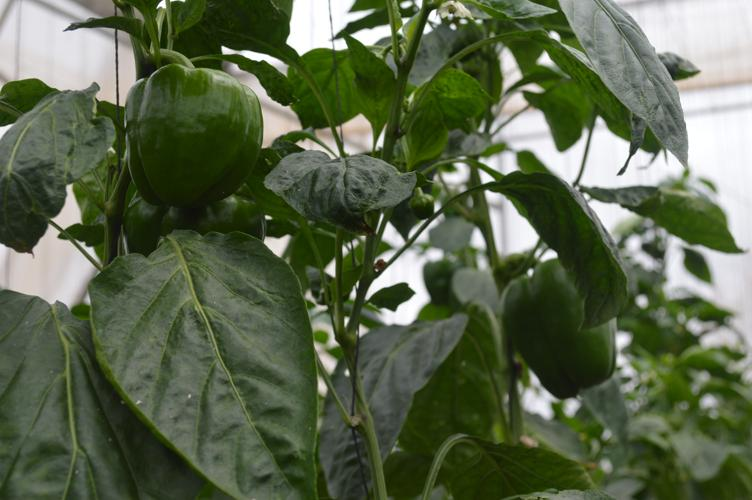BellPepper: (113, 63, 272, 217), (505, 247, 629, 400)
